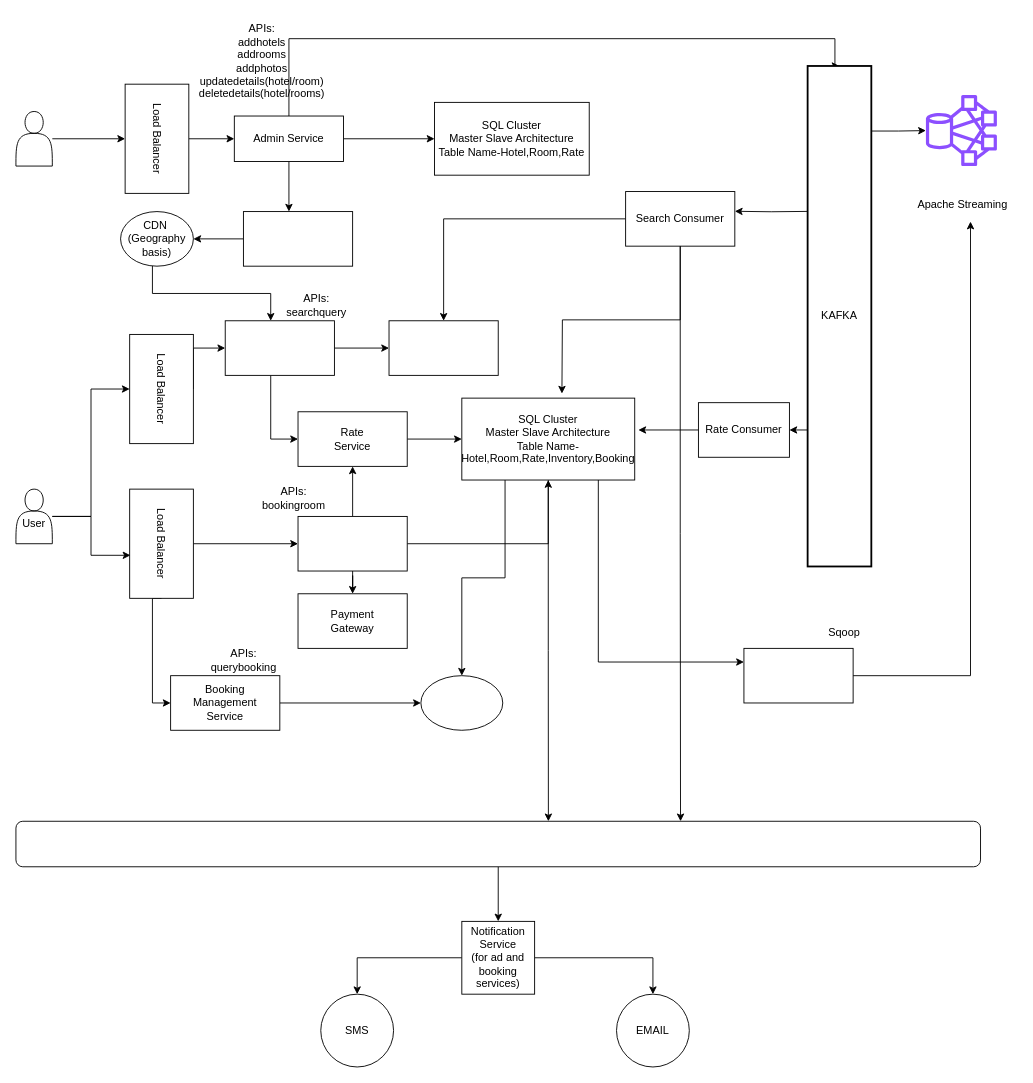
This 1033x1083 diagram has some shape labels left out. The centre of each missing label's shape, as x and y in pixels:
Admin: the point at 33,138
Archival Process: the point at 798,675
Booking Service: the point at 352,543
Elastic Search Cluster: the point at 443,347
Hadoop Cluster: the point at 960,130
Notification Queue: the point at 498,843
Redis: the point at 461,702
S3: the point at 298,238
Search Service: the point at 279,347
